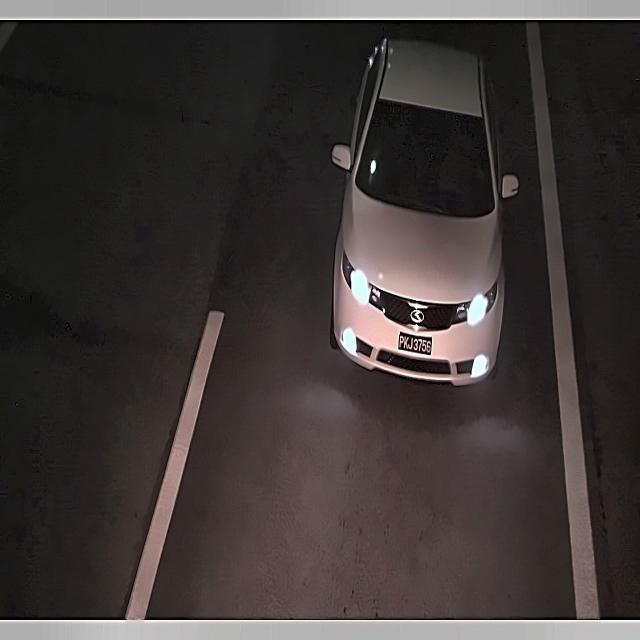car: (394, 328, 434, 362)
